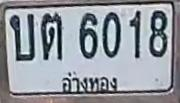0: (102, 11, 121, 58)
1: (129, 10, 141, 58)
6: (79, 12, 97, 59)
8: (148, 10, 167, 56)
A21: (40, 12, 62, 60)
A26: (9, 13, 34, 61)
ATG: (57, 68, 120, 94)
